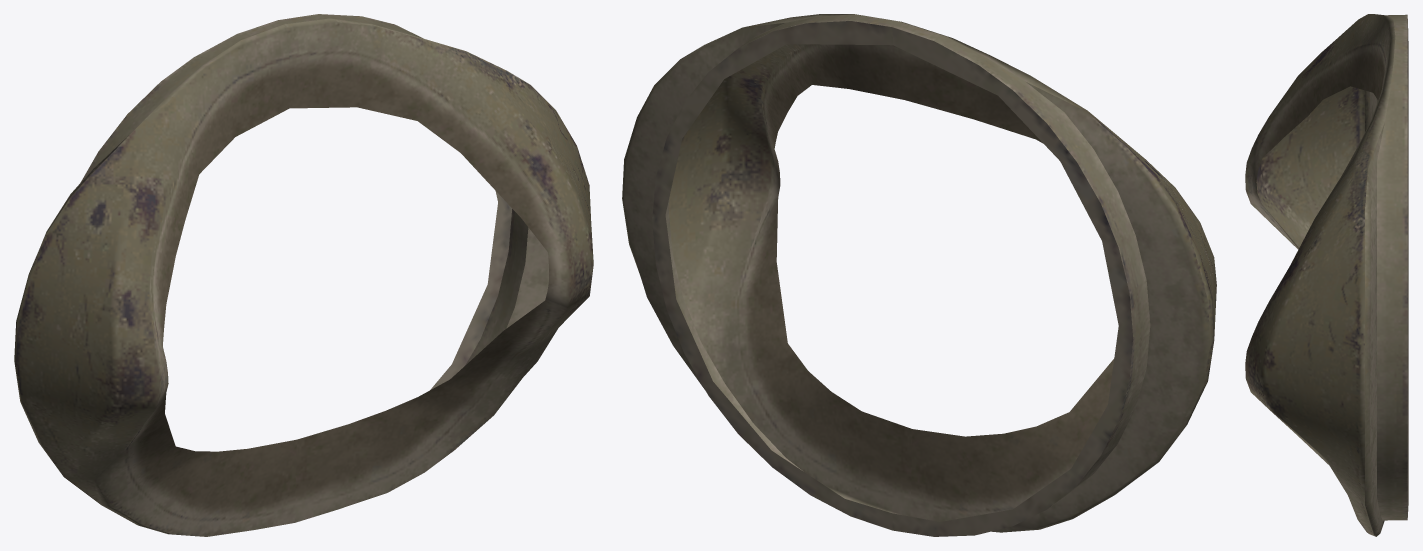
Rendered from Turret_01.glb.
3 renders of one model, left to right at view 1: azimuth 30°, elevation 25°; view 2: azimuth 150°, elevation 25°; view 3: azimuth 270°, elevation 25°, orthographic. The views are drawn at different scales.
Visible parts, largest first — view 1: set_0_group_0; view 2: set_0_group_0; view 3: set_0_group_0.
Boxes of the visible parts, <box> form: set_0_group_0: <box>14,14,593,536</box>; set_0_group_0: <box>622,14,1216,536</box>; set_0_group_0: <box>1245,14,1408,536</box>.
Bounding box in the file's own units: 3.16 × 2.58 × 0.8309.
1 material, 1 textured.
